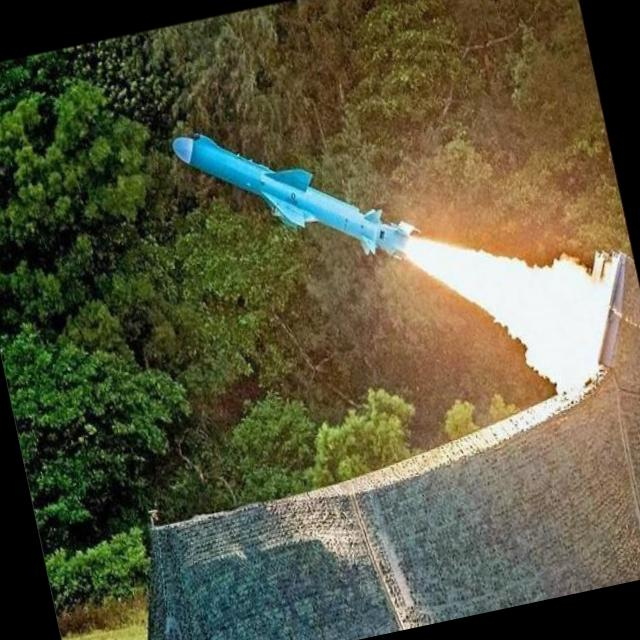rocket: (166, 60, 547, 410)
